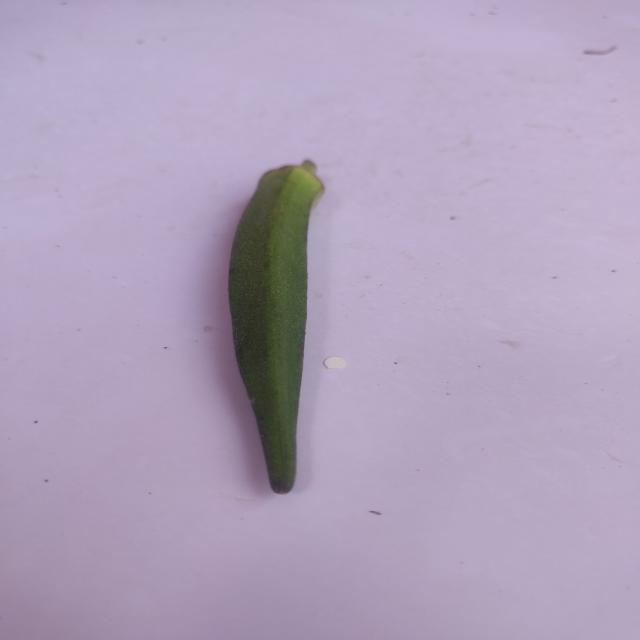Ladies Finger: (210, 145, 337, 497)
